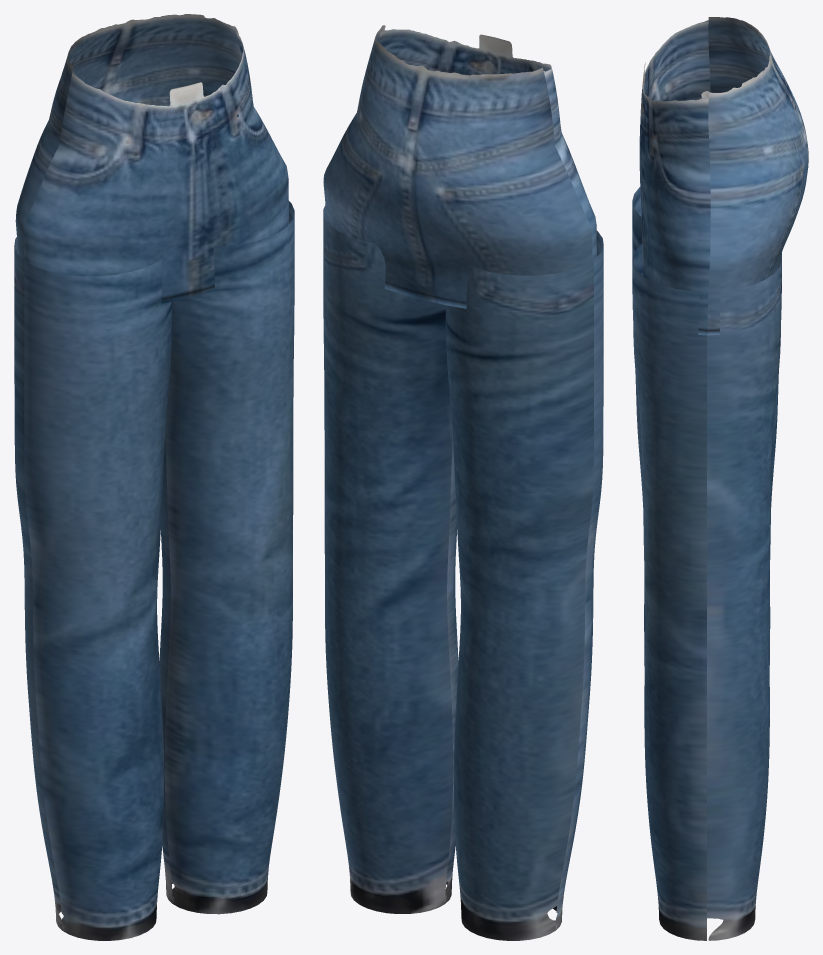
Rendered from prod-ae-vintage-wide-denim.glb.
The picture shows the model from 3 angles, left to right: view 1: azimuth 30°, elevation 25°; view 2: azimuth 150°, elevation 25°; view 3: azimuth 270°, elevation 25°; orthographic projection. The views are drawn at different scales.
Parts seen in each view (by area): view 1: prod-ae-vintage-wide-denim; view 2: prod-ae-vintage-wide-denim; view 3: prod-ae-vintage-wide-denim.
Boxes of the visible parts, x1,y1,x2,y2 form: prod-ae-vintage-wide-denim: (14,14,294,940); prod-ae-vintage-wide-denim: (323,25,603,940); prod-ae-vintage-wide-denim: (632,17,808,940).
Bounding box in the file's own units: 0.2882 × 0.9104 × 0.1736.
1 material, 1 textured.
